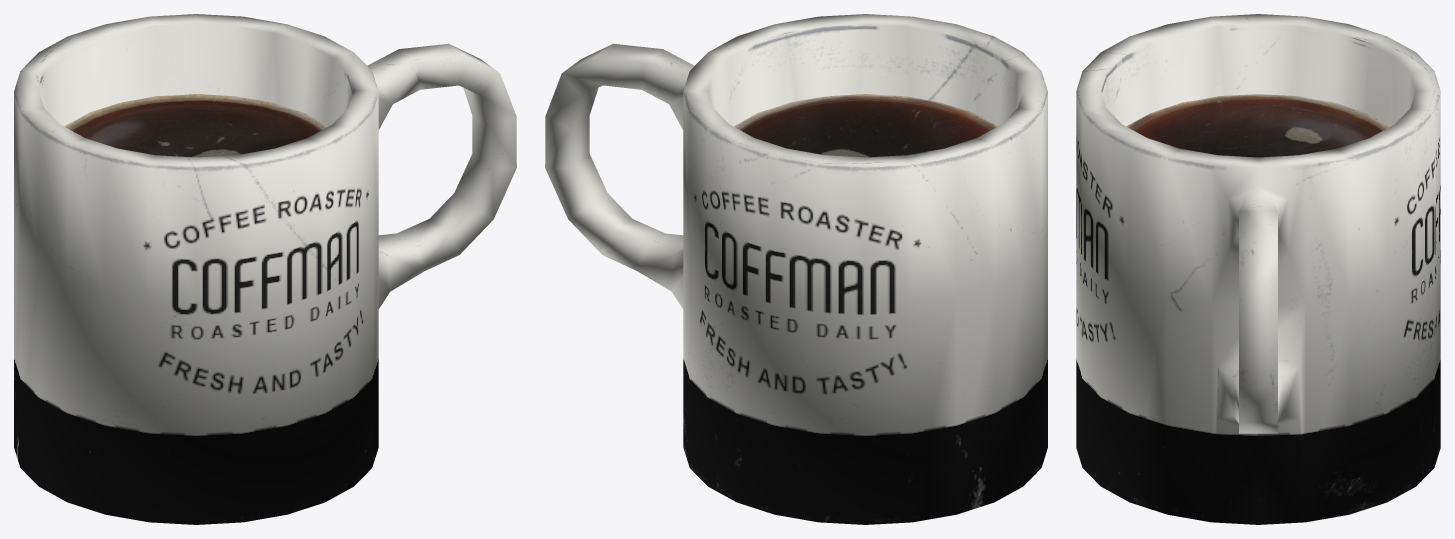
Rendered from Cups.fbx.
The picture shows the model from 3 angles, left to right: view 1: azimuth 30°, elevation 25°; view 2: azimuth 150°, elevation 25°; view 3: azimuth 270°, elevation 25°; orthographic projection.
Visible parts, largest first — view 1: Cup02, CupCoff02; view 2: Cup02, CupCoff02; view 3: Cup02, CupCoff02.
Part boxes in pixels (box(x1,y1,x2,y2)): Cup02: box(14, 14, 516, 524); CupCoff02: box(64, 94, 327, 157); Cup02: box(545, 14, 1047, 524); CupCoff02: box(734, 94, 997, 157); Cup02: box(1076, 14, 1440, 524); CupCoff02: box(1126, 94, 1390, 157).
Bounding box in the file's own units: 21.98 × 16 × 14.8.
2 materials, 2 textured.
